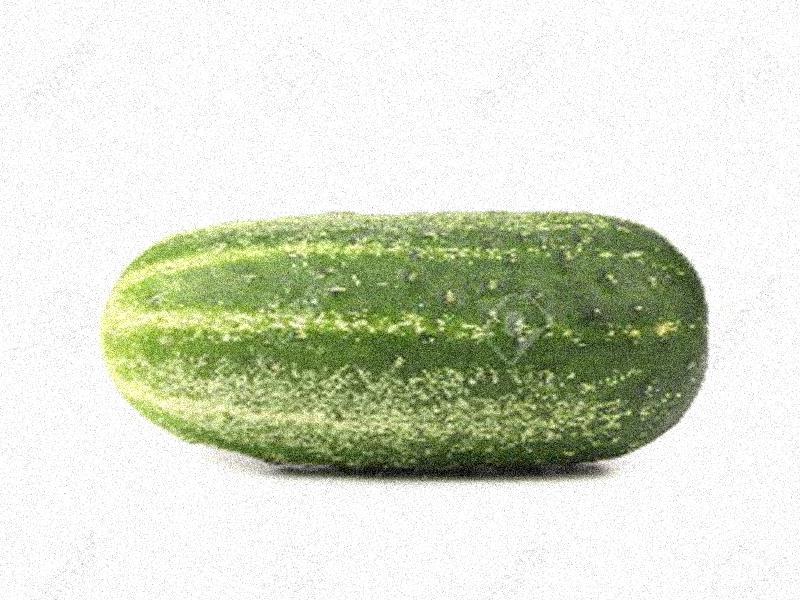Cucumber: (106, 211, 712, 473)
